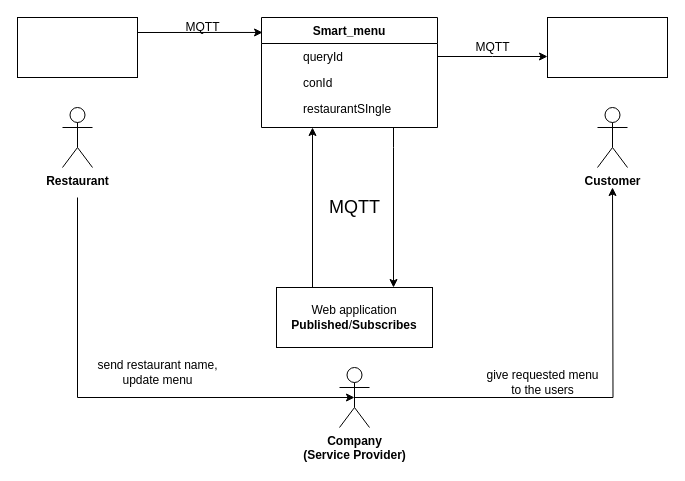
This 685x481 diagram has some shape labels left out. Here are the shapes that lost their labels. From the top down, the box of each, then its label:
(16, 16, 138, 78): Desktop app Published
(546, 16, 668, 78): M5 Stack Requests
